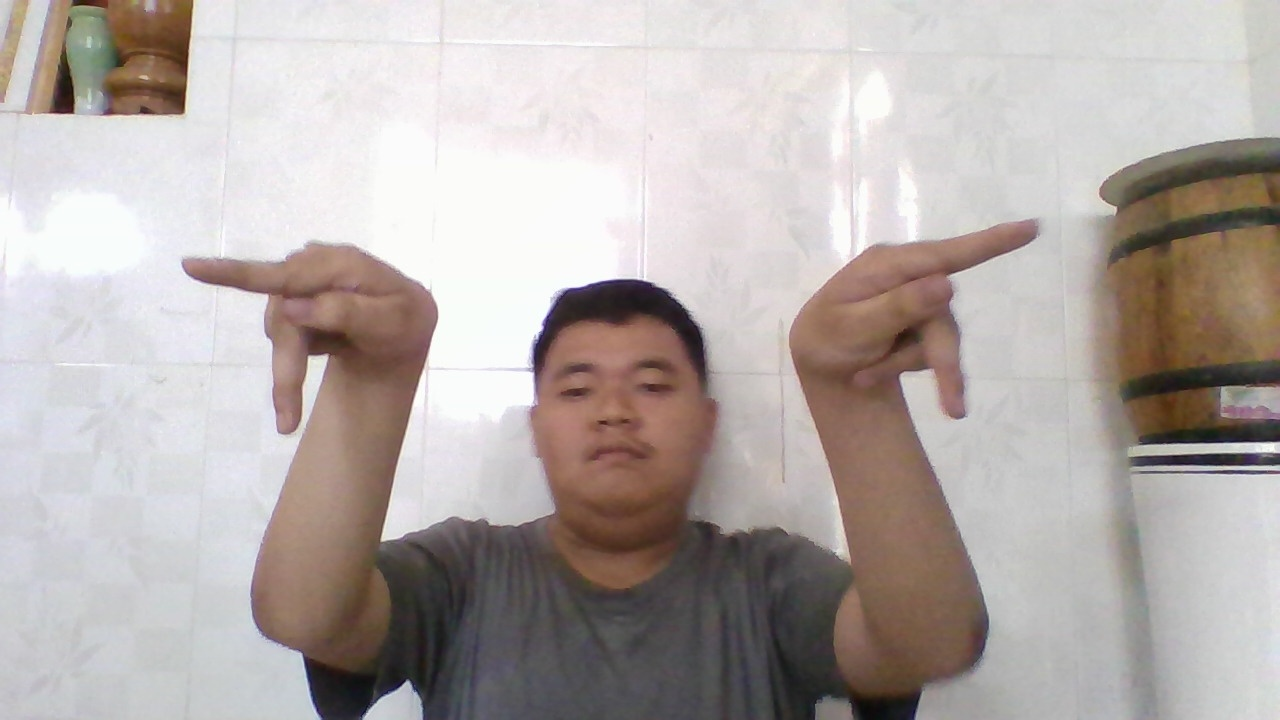P: (800, 214, 1047, 413), (178, 255, 429, 402)
